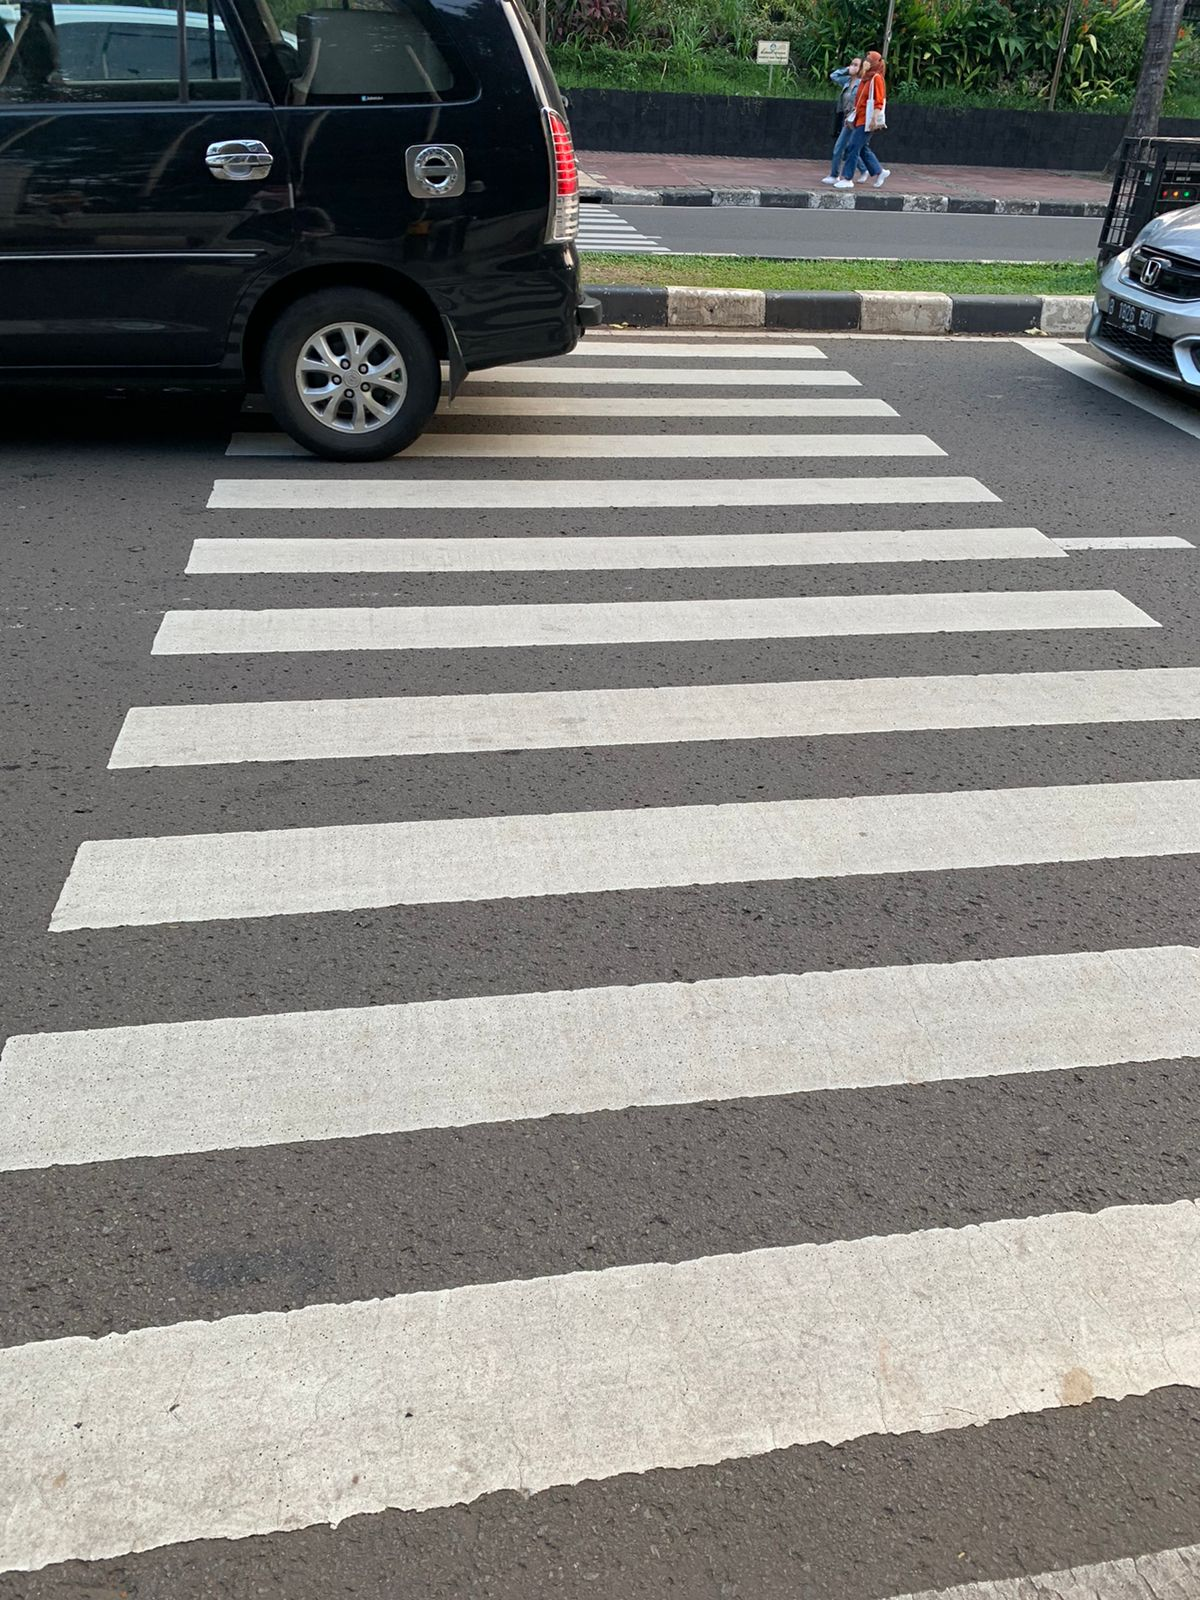zebracross: (98, 480, 1165, 1569)
